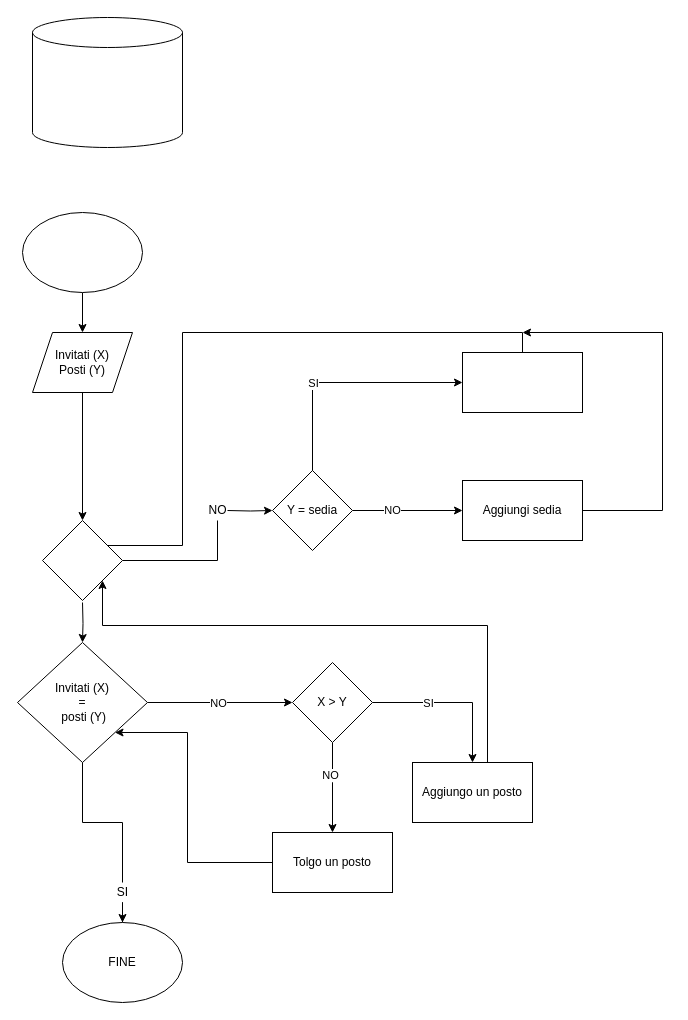
Image size: 688x1020. Some labels were removed from this diagram. The centre of each missing label's shape, as x and y in pixels:
"Aggiungi piatto" belongs at (x=522, y=382).
"inizio" belongs at (x=82, y=252).
"POSTO Sedia=1 AND Piatto=1" belongs at (x=107, y=82).
"Y/2=1" belongs at (x=82, y=560).
